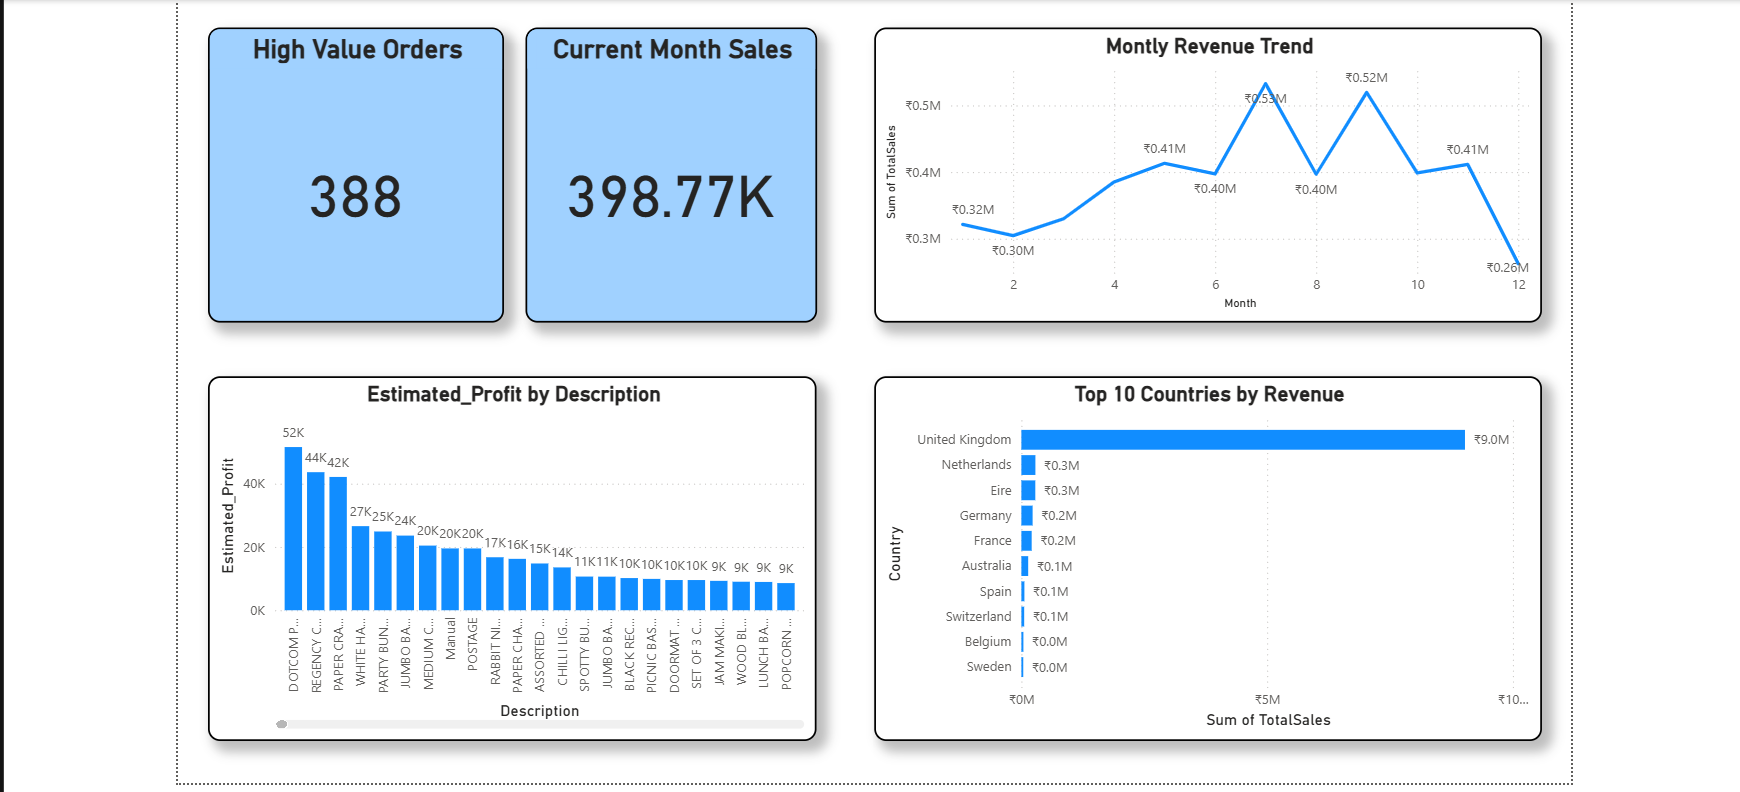

This screenshot's page, from the dashboard's own definition file:
{"tool":"powerbi","page":{"name":"Page 2","canvas":[1280,720],"ordinal":1},"visuals":[{"type":"clusteredBarChart","title":"Top 10 Countries by Revenue","fields":{"Category":["sales_data.Country"],"Y":["Sum(sales_data.TotalSales)"]},"box":[639.8,345.8,613.4,335.4],"z":0},{"type":"lineChart","title":"Montly Revenue Trend","fields":{"Category":["sales_data.Month"],"Y":["Sum(sales_data.TotalSales)"]},"box":[639.8,25.3,613.4,271.1],"z":1000},{"type":"columnChart","fields":{"Category":["sales_data.Description"],"Y":["sales_data.Estimated_Profit"]},"box":[27.6,345.8,559.4,335.4],"z":2000},{"type":"card","title":"High Value Orders","fields":{"Values":["sales_data.High_Value_Orders"]},"box":[27.6,25.3,272.2,271.1],"z":3000},{"type":"card","title":"Current Month Sales","fields":{"Values":["sales_data.Sales_Current_Month"]},"box":[319.3,25.3,267.6,271.1],"z":4000}]}

Visuals, with their boxes in screenshot pixels (x1, y1, x2, y2):
"Top 10 Countries by Revenue" clusteredBarChart: [872,376,1538,740]
"Montly Revenue Trend" lineChart: [872,27,1538,322]
columnChart - sales_data.Description x sales_data.Estimated_Profit: [207,376,814,740]
"High Value Orders" card: [207,27,502,322]
"Current Month Sales" card: [524,27,814,322]
